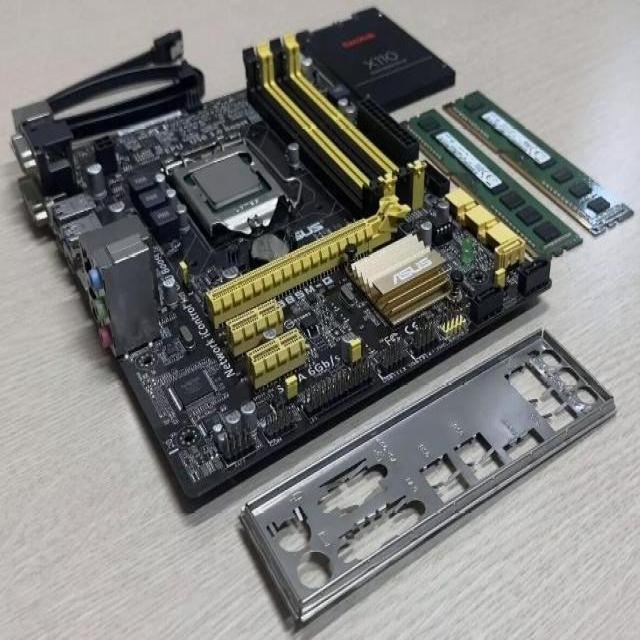CPU: (190, 153, 264, 210)
DISK: (295, 7, 456, 114)
RAM: (396, 109, 584, 264), (442, 90, 634, 239)
